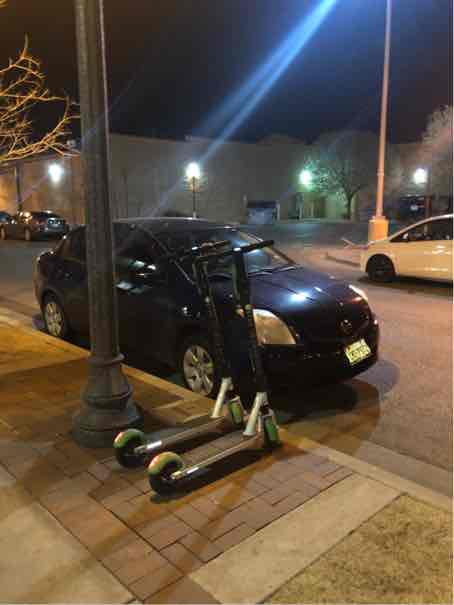too close: (249, 404, 300, 462), (207, 390, 251, 433)
